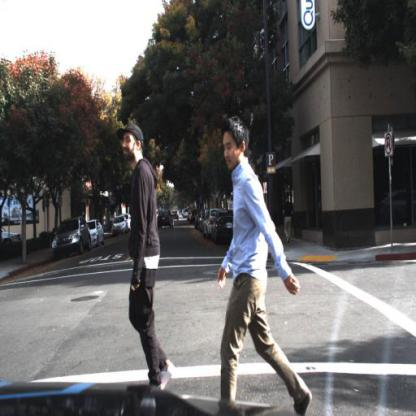car: (52, 213, 92, 259), (211, 208, 248, 252), (1, 223, 22, 252), (86, 219, 107, 248), (157, 208, 174, 231), (205, 211, 217, 242), (113, 214, 129, 235)
pedestrian: (214, 118, 313, 416), (116, 123, 176, 399), (118, 124, 175, 396), (281, 195, 296, 245)
